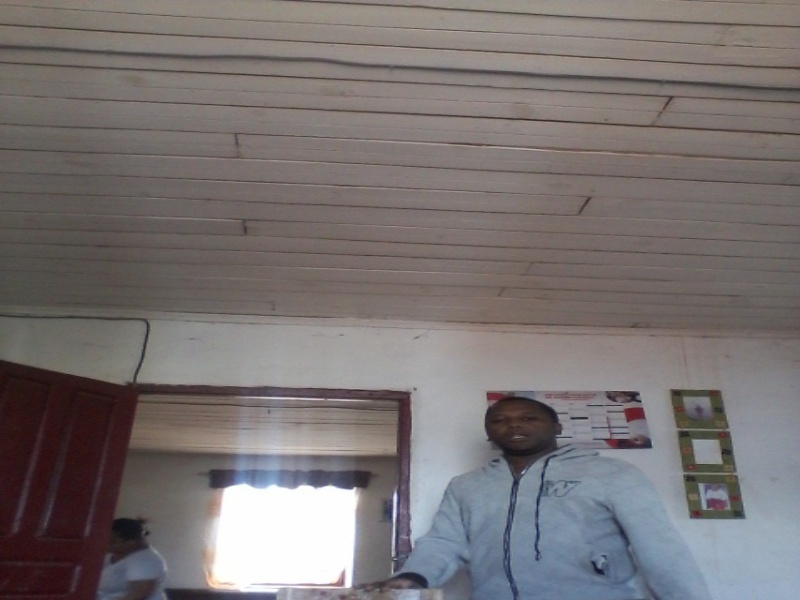TsisyArotava: (475, 390, 576, 462)
